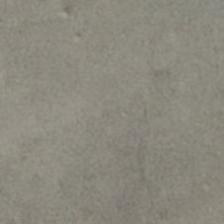Non_Crack: (18, 16, 224, 224)
